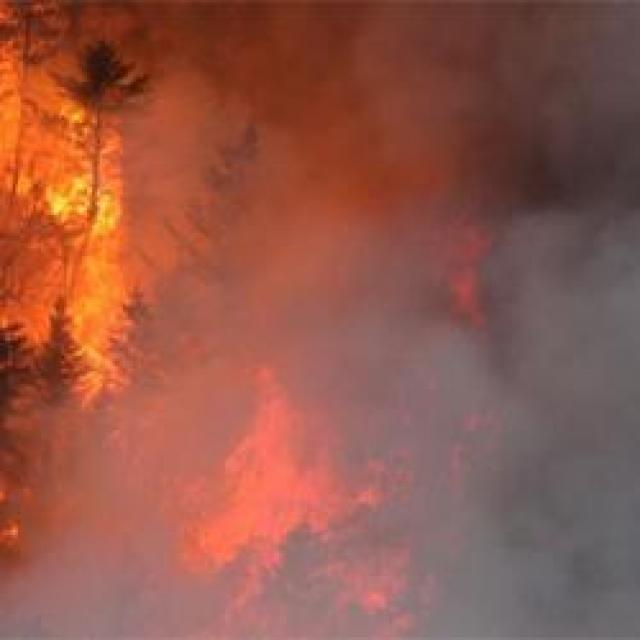fire: (44, 180, 115, 244)
smoke: (485, 238, 640, 508), (425, 504, 640, 640), (513, 17, 640, 220), (346, 9, 484, 167)
